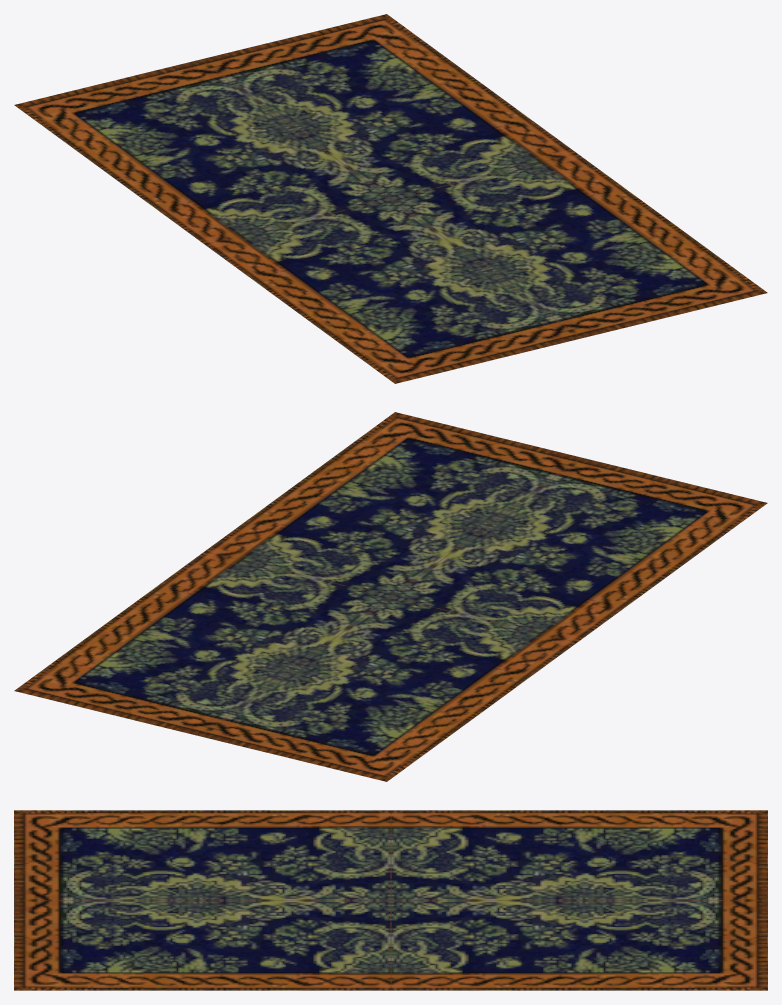
Rendered from INST_LT_CARPET3.fbx.
The picture shows the model from 3 angles, top to bottom: view 1: azimuth 30°, elevation 25°; view 2: azimuth 150°, elevation 25°; view 3: azimuth 270°, elevation 25°; orthographic projection.
Visible parts, largest first — view 1: INST_LT_CARPET3; view 2: INST_LT_CARPET3; view 3: INST_LT_CARPET3.
Boxes of the visible parts, <box> form: INST_LT_CARPET3: <box>14,14,767,383</box>; INST_LT_CARPET3: <box>14,412,767,781</box>; INST_LT_CARPET3: <box>14,810,767,990</box>.
Bounding box in the file's own units: 14640 × 0.00542 × 25912.
1 material, 1 textured.
